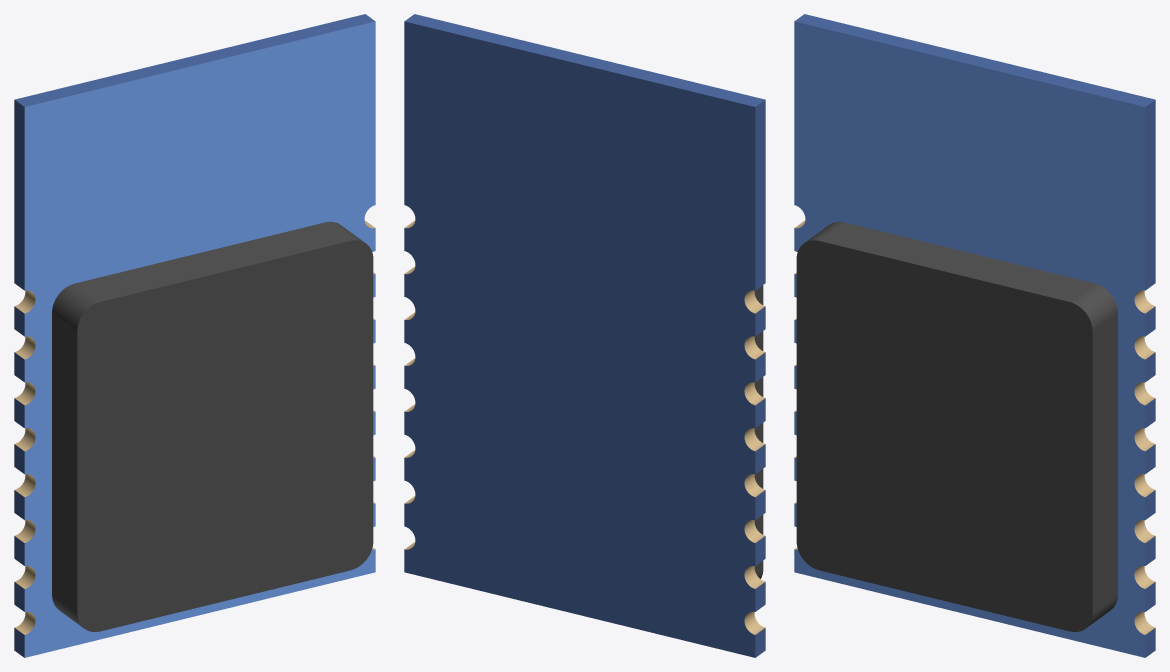
The model's file is wbr3 v2 v4.fbx.
3 renders of one model, left to right at view 1: azimuth 30°, elevation 25°; view 2: azimuth 150°, elevation 25°; view 3: azimuth 330°, elevation 25°, orthographic.
Visible parts, largest first — view 1: Body1; view 2: Body1; view 3: Body1.
Part boxes in pixels (x1,y1,x2,y2): Body1: (14, 14, 375, 657); Body1: (404, 14, 765, 657); Body1: (794, 14, 1155, 657).
Size of the model in its own units: 0.016 by 0.024 by 0.0028.
